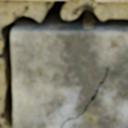brick: (11, 28, 127, 127), (96, 0, 127, 2), (22, 0, 54, 1)
crack: (0, 0, 127, 127), (61, 65, 108, 127)
